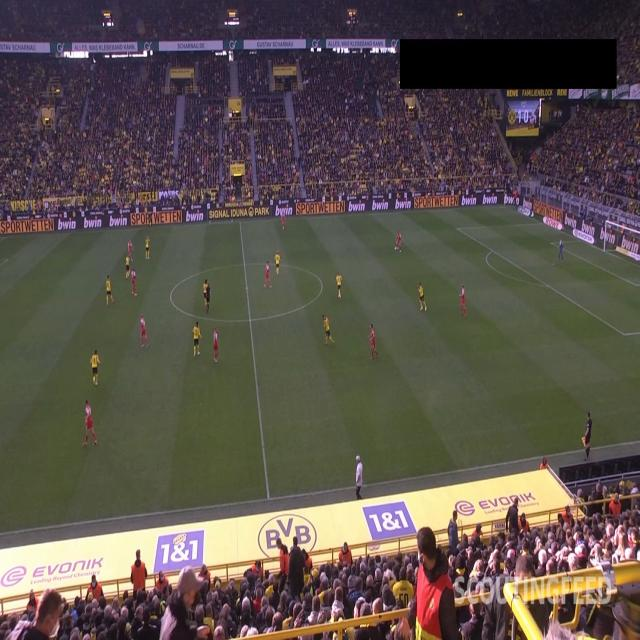ball: (394, 245, 397, 251)
